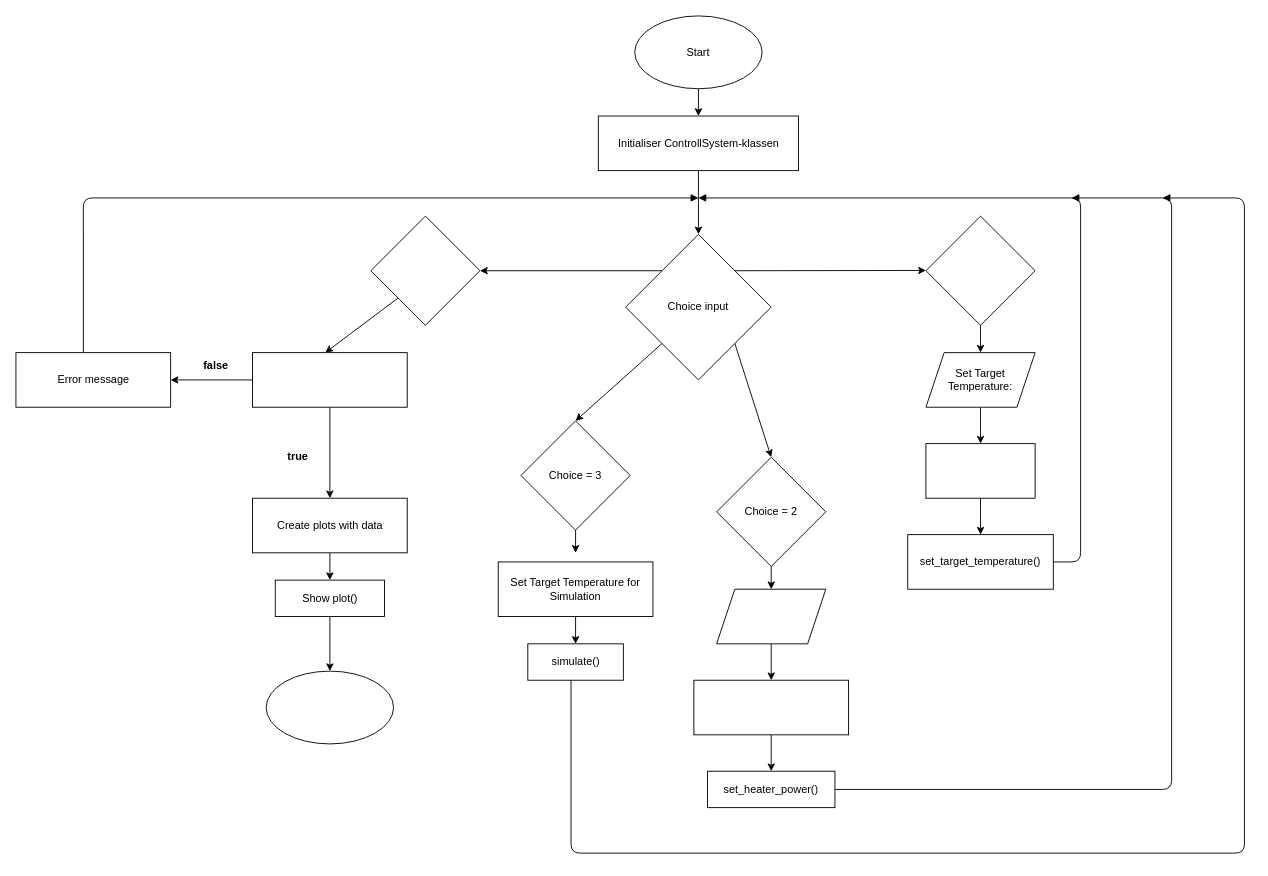
Image size: 1268x876. Some labels were removed from this diagram. Here are the shapes that lost their labels. From the top down, the box of each, then its label:
(370, 215, 480, 325): Choice = 4
(925, 215, 1035, 325): Choice = 1
(252, 352, 407, 407): Check for temperature data
(925, 443, 1035, 498): Input target temp.
(716, 588, 826, 644): Set Initial heater Power:
(265, 670, 394, 744): End
(693, 679, 849, 735): Input initial heater power
